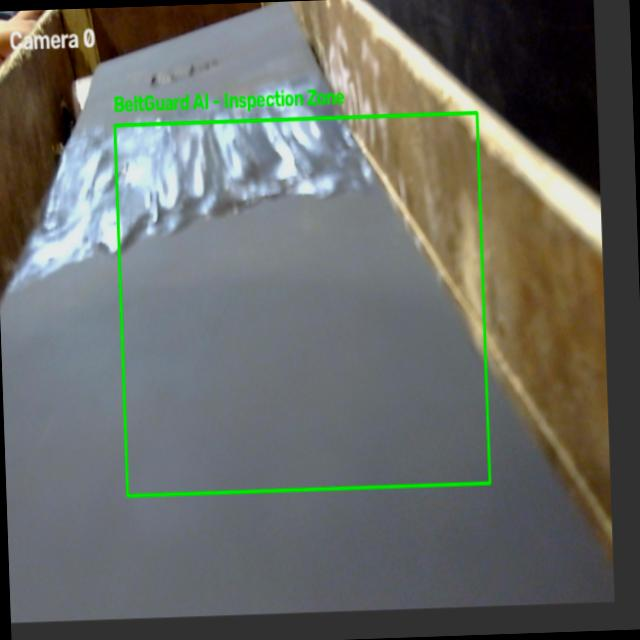Joint_Damage: (55, 120, 373, 258)
crack: (145, 60, 227, 86)
